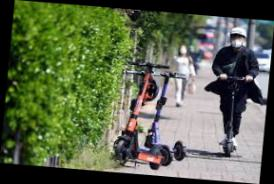helmet: (200, 23, 268, 161)
